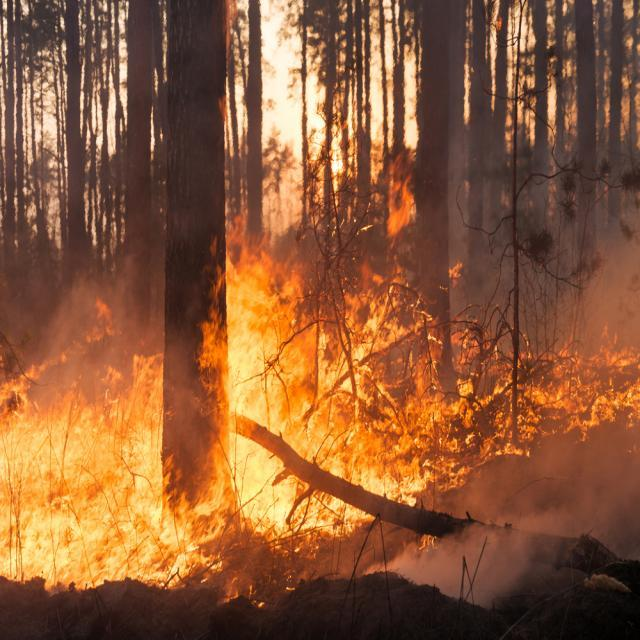Fire: (0, 138, 640, 592)
Smoke: (24, 246, 144, 407)
